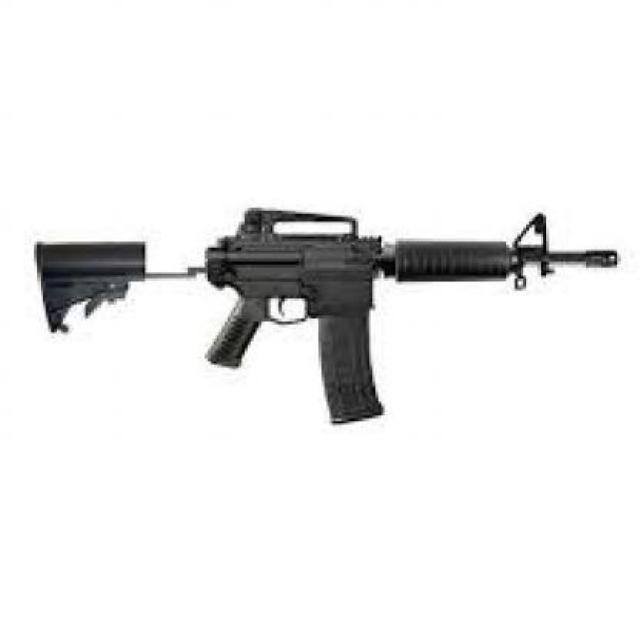weapon: (27, 181, 618, 430)
